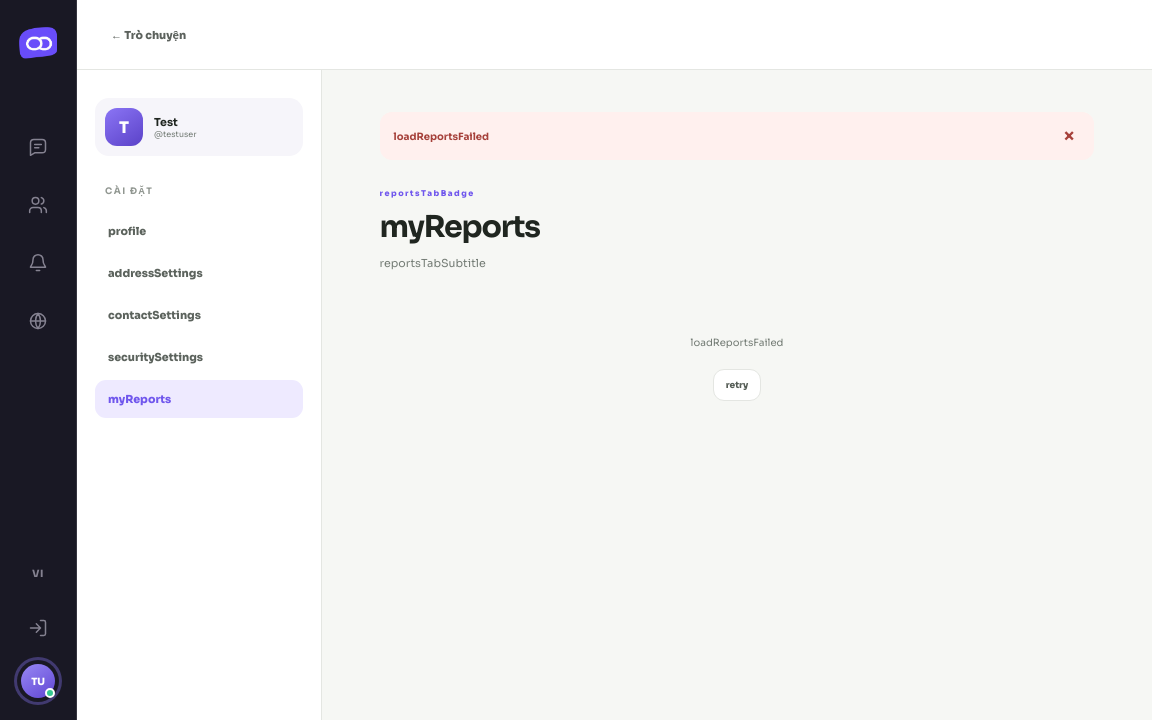
Scenario: SettingsPage Reports Tab › displays error state with retry button when getMyReports fails, and recovers on retry
Expected: the message "loadReportsFailed ×" is shown, [380,112,1094,160]
Expected: the element with test id "reports-error-state" is shown, [691,336,783,401]
Click the button "retry". click: [737, 385]
box: [713,369,761,401]
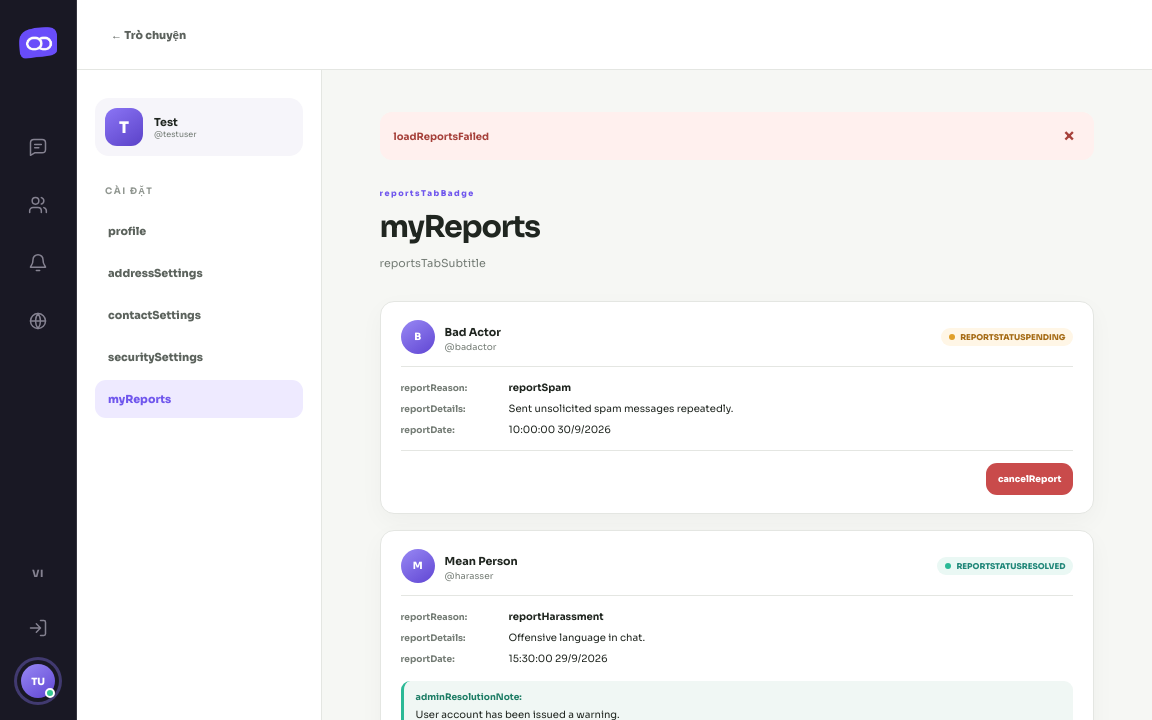
Now the text "Bad Actor" is shown, box [445,325,501,339]
Now the element with test id "reports-error-state" is gone
